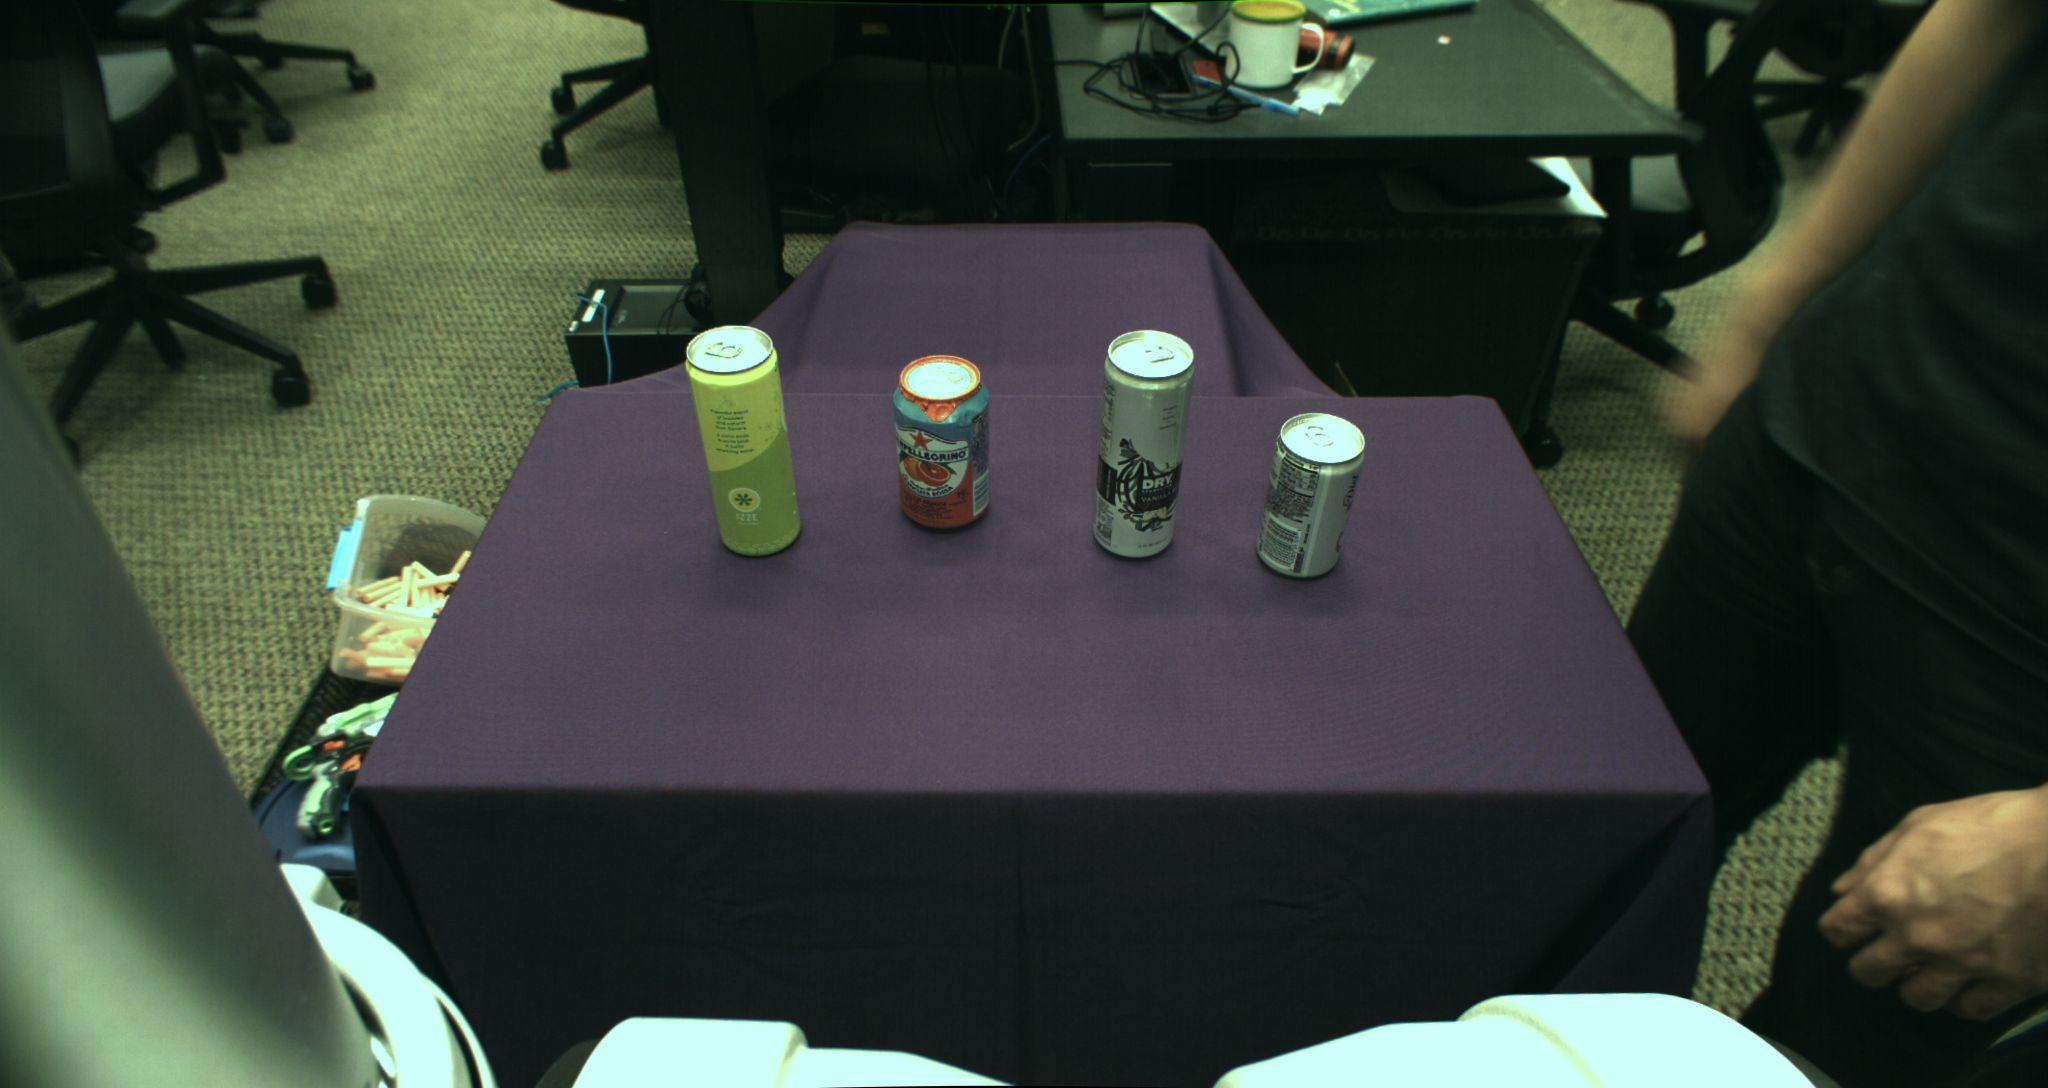can_diet_coke_small: (1256, 412, 1367, 579)
can_dry_sparkling_vanilla_bean: (1094, 329, 1195, 558)
can_izze_fusions_lemon_lime: (685, 325, 801, 556)
can_sanpellegrino_blood_orange: (893, 355, 991, 530)
